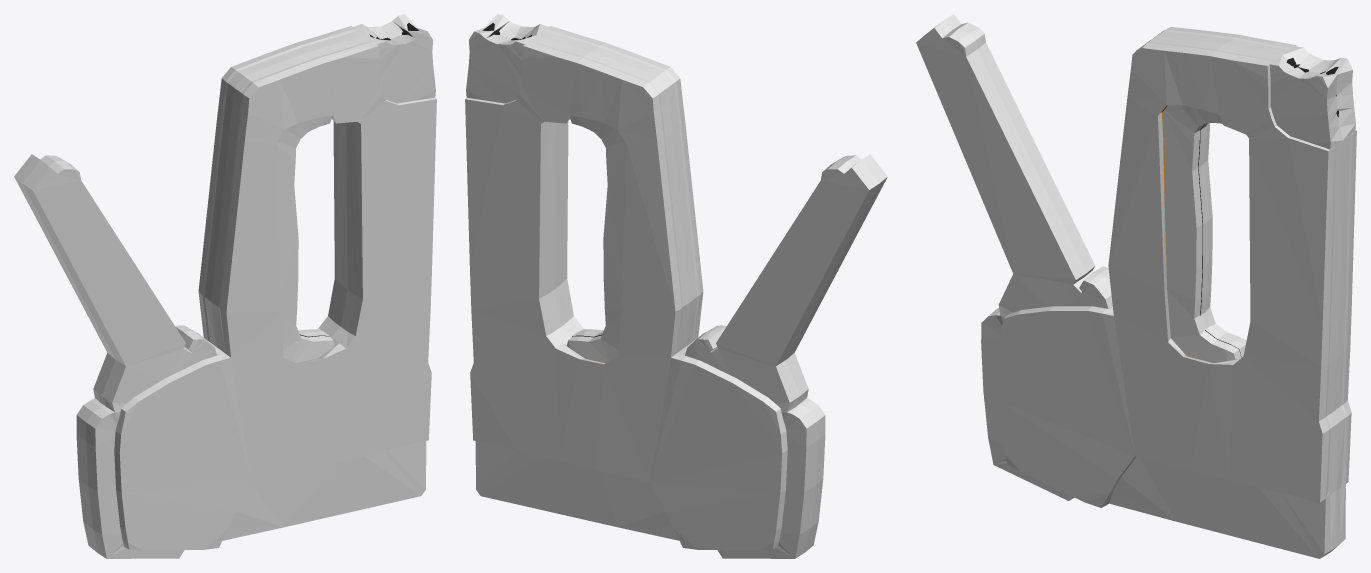
Rendered from Stapler.dae.
3 views of the same model, side by side, from view 1: azimuth 30°, elevation 25°; view 2: azimuth 150°, elevation 25°; view 3: azimuth 330°, elevation 25° (orthographic). The views are drawn at different scales.
Visible parts, largest first — view 1: StaplerGun; view 2: StaplerGun; view 3: StaplerGun.
Boxes of the visible parts, box(x1,y1,x2,y2) form: StaplerGun: box(14, 14, 436, 558); StaplerGun: box(465, 14, 887, 558); StaplerGun: box(916, 14, 1356, 558).
Bounding box in the file's own units: 4.73 × 0.5993 × 5.3.
Materials: 2 (1 with a texture image).
